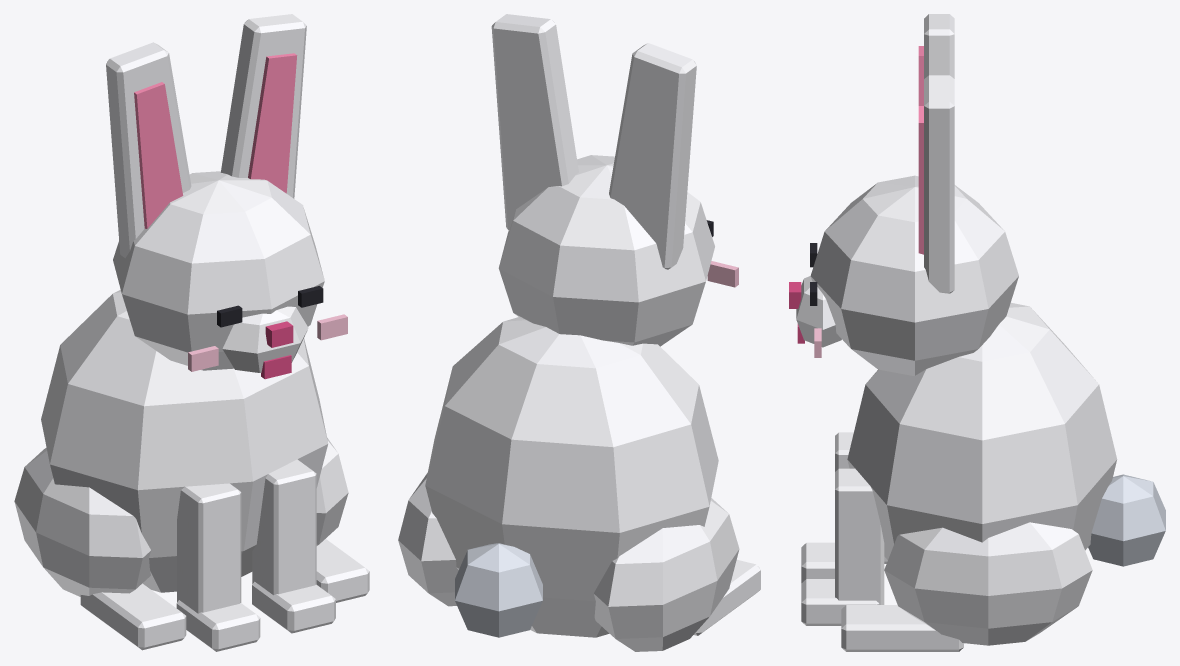
The model's file is rabbit-1x1.glb.
3 views of the same model, side by side, from view 1: azimuth 30°, elevation 25°; view 2: azimuth 150°, elevation 25°; view 3: azimuth 270°, elevation 25° (orthographic). The views are drawn at different scales.
Parts seen in each view (by area): view 1: rabbit-1x1; view 2: rabbit-1x1; view 3: rabbit-1x1.
Boxes of the visible parts, <box> form: rabbit-1x1: <box>14,14,369,651</box>; rabbit-1x1: <box>398,14,760,651</box>; rabbit-1x1: <box>789,14,1165,651</box>.
Size of the model in its own units: 0.7912 by 1.47 by 0.9.
1 material, 1 textured.
